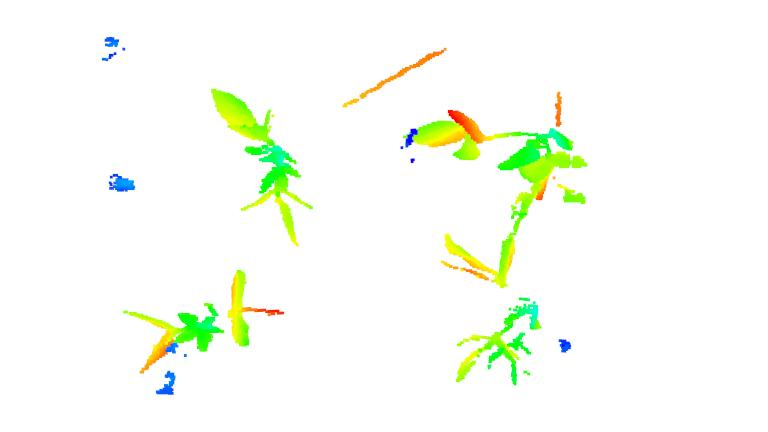mungbean: (439, 228, 568, 393), (412, 109, 585, 220), (206, 83, 309, 247), (121, 265, 256, 376)
